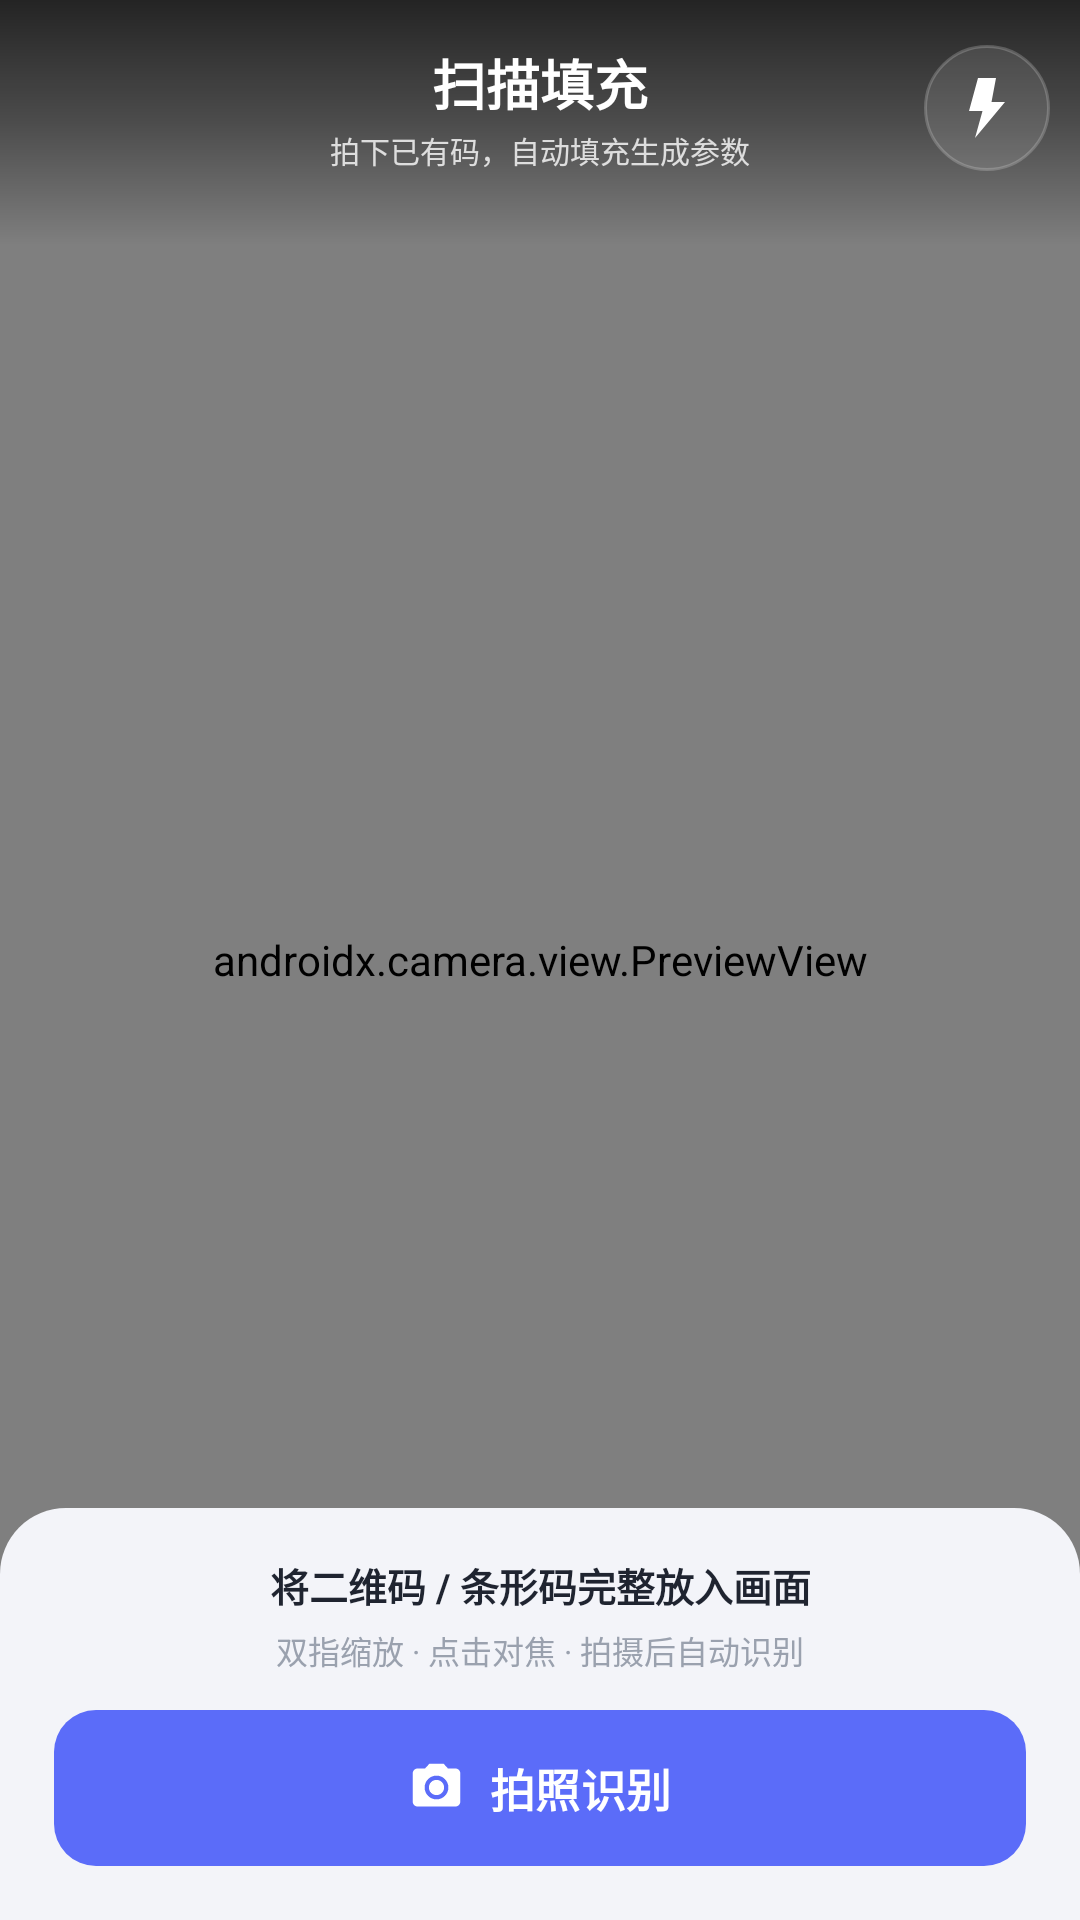

Screen size 1080px×1920px. Icon name, then its center in pixels as (x=x, y=y):
补光: (x=987, y=108)
